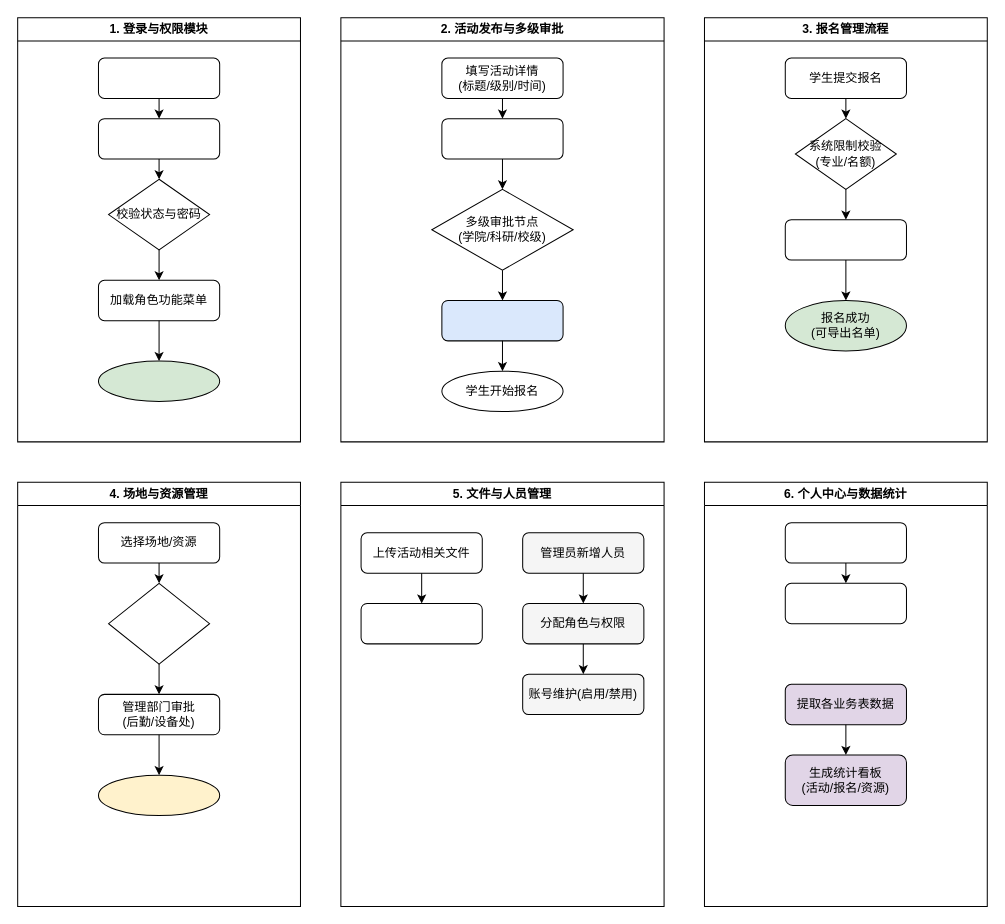
This 1005x924 diagram has some shape labels left out. The shapes that lost their labels are listed below. From the top down, each one's box as (x1, y1, x2, y2) in pixels, then its label:
(97, 57, 220, 98): 进入登录页
(97, 118, 220, 159): 输入账号/密码/验证码
(441, 118, 563, 159): 提交并匹配审批链
(784, 219, 906, 260): 发布人/管理审核
(441, 299, 563, 341): 审批通过 活动公开展示
(97, 360, 220, 401): 进入个性化首页
(784, 522, 906, 563): 维护基本信息
(108, 582, 210, 664): 冲突检测与 库存判定
(360, 602, 482, 644): 活动归档后下载
(784, 582, 906, 624): 修改密码(校验原密码)
(97, 774, 220, 816): 资源占用/扣减
